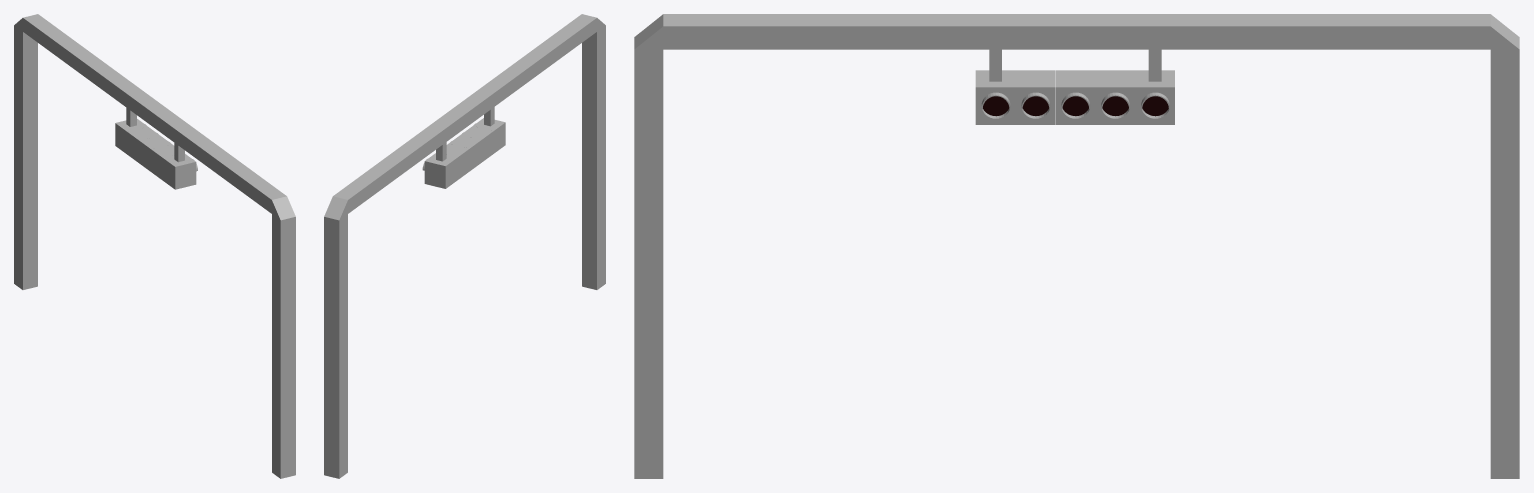
File: FinishLine.fbx
3 renders of one model, left to right at view 1: azimuth 30°, elevation 25°; view 2: azimuth 150°, elevation 25°; view 3: azimuth 270°, elevation 25°, orthographic. The views are drawn at different scales.
Visible parts, largest first — view 1: FinishLine; view 2: FinishLine; view 3: FinishLine.
Part boxes in pixels (bbox=[...]): FinishLine: bbox=[14, 14, 295, 478]; FinishLine: bbox=[324, 14, 605, 478]; FinishLine: bbox=[634, 14, 1519, 478].
Size of the model in its own units: 81.36 by 860 by 1525.
